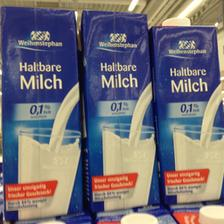Milch: (0, 4, 86, 216), (78, 7, 162, 212), (150, 17, 223, 205)
